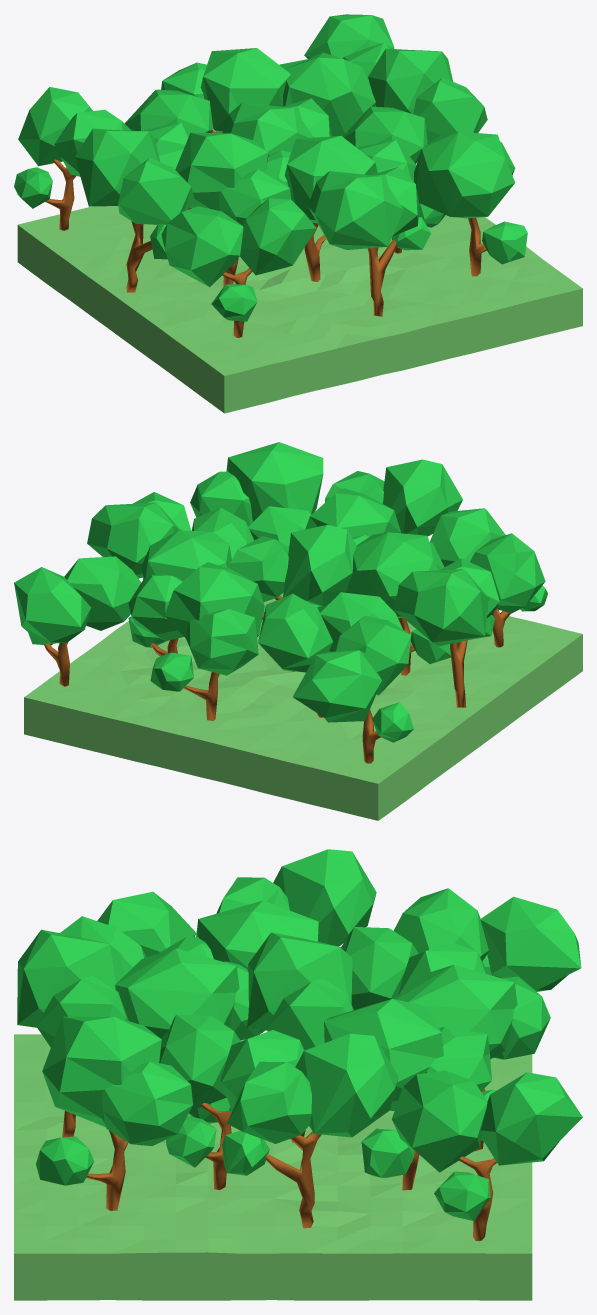
The model's file is forest.fbx.
3 views of the same model, one above another, from view 1: azimuth 30°, elevation 25°; view 2: azimuth 150°, elevation 25°; view 3: azimuth 270°, elevation 25° (orthographic). The views are drawn at different scales.
Visible parts, largest first — view 1: Plane; view 2: Plane; view 3: Plane.
Boxes of the visible parts, x1,y1,x2,y2 form: Plane: (14,14,582,413); Plane: (14,442,582,820); Plane: (14,849,582,1300).
Size of the model in its own units: 2233 by 1010 by 2195.
